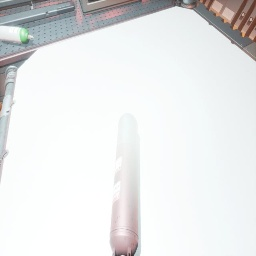0: (0, 26, 34, 44)
NitrogenTank ,: (109, 113, 138, 256)
